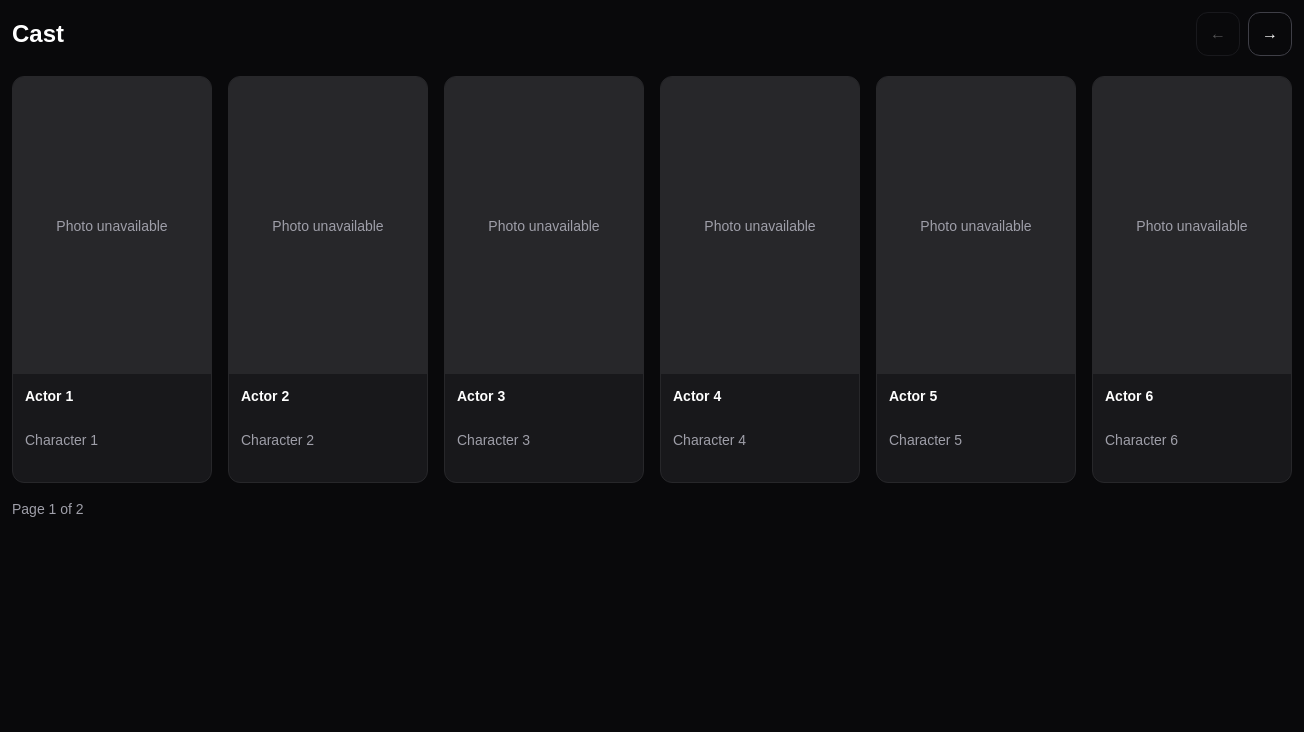
MovieCastSection › shows six actors and navigates between pages
Expected: the button named "Previous cast page" is disabled, x1=1196 y1=12 x2=1240 y2=56
Click the button named "Next cast page" at point(1270, 34), box x1=1248 y1=12 x2=1292 y2=56
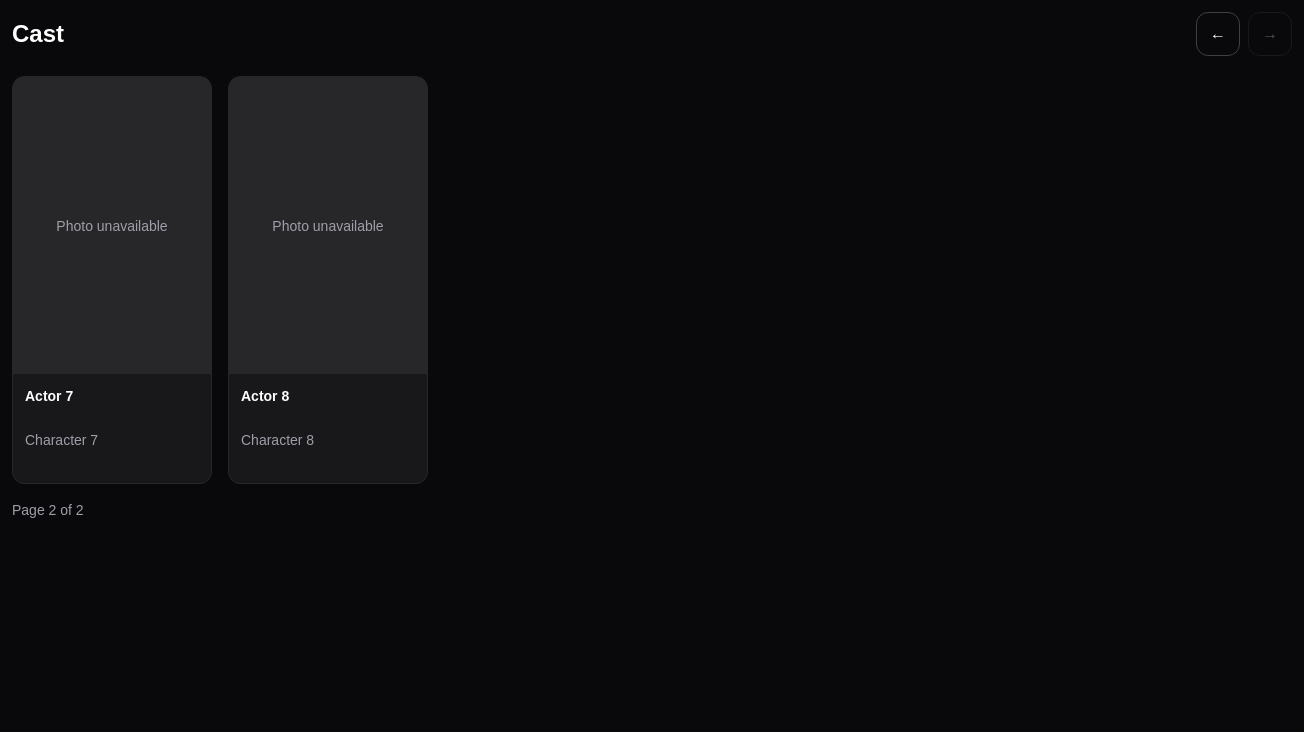
Result: the heading "Actor 7" is shown at x1=25 y1=388 x2=73 y2=404
Result: the heading "Actor 8" is shown at x1=241 y1=388 x2=289 y2=404
Result: the link "Actor 1" is gone
Click the button named "Previous cast page" at point(1218, 34), box x1=1196 y1=12 x2=1240 y2=56
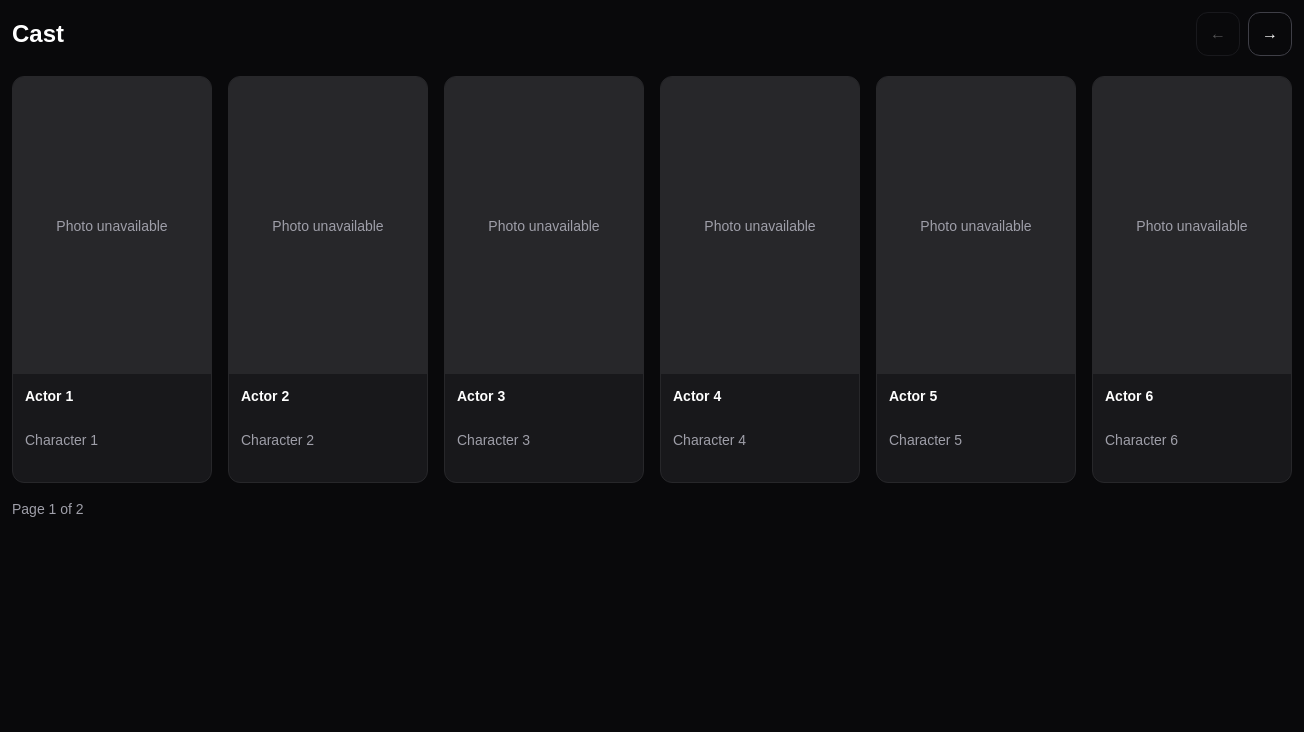
Result: the heading "Actor 1" is shown at x1=25 y1=388 x2=73 y2=404
Result: the link "Actor 7" is gone
